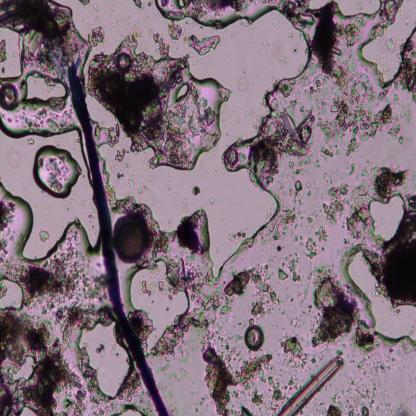Air bubble: (346, 249, 416, 345), (128, 261, 190, 356), (358, 0, 416, 86), (74, 319, 132, 402), (154, 0, 280, 31), (0, 179, 38, 258), (33, 142, 82, 202), (0, 103, 75, 136), (368, 193, 406, 243), (22, 70, 68, 107), (0, 27, 25, 83), (308, 0, 381, 17), (0, 276, 25, 314), (8, 357, 36, 382), (175, 83, 190, 101), (177, 0, 186, 8)
Background material: (0, 0, 104, 80), (324, 83, 407, 154), (96, 49, 171, 124), (250, 106, 315, 180), (379, 198, 416, 309), (277, 356, 343, 415), (312, 275, 361, 348), (193, 260, 249, 318), (140, 110, 191, 167), (309, 3, 344, 83), (153, 307, 210, 356), (202, 343, 240, 415), (346, 166, 370, 238), (249, 263, 277, 322), (190, 82, 218, 139), (236, 352, 274, 390), (373, 166, 408, 200), (394, 38, 416, 92), (322, 182, 352, 220), (179, 210, 203, 256), (268, 208, 300, 241), (281, 0, 315, 30), (280, 336, 309, 368), (354, 318, 378, 356), (187, 34, 220, 58), (340, 16, 365, 47), (95, 119, 121, 147), (277, 255, 303, 283), (306, 226, 328, 257), (137, 276, 171, 294), (268, 374, 284, 407), (151, 32, 170, 59), (0, 198, 15, 232), (344, 60, 362, 85), (226, 148, 245, 169), (169, 21, 186, 44), (383, 0, 401, 21), (226, 229, 249, 243), (290, 180, 303, 204), (278, 81, 295, 99), (250, 389, 266, 407), (383, 35, 397, 54), (113, 147, 127, 165), (325, 404, 342, 416), (95, 342, 106, 359), (133, 0, 145, 12), (239, 404, 253, 414), (39, 230, 50, 242), (116, 168, 124, 184), (127, 173, 134, 191), (360, 404, 370, 415), (192, 184, 201, 196), (271, 19, 279, 27), (208, 196, 215, 204), (80, 2, 94, 6)
Cotton: (67, 65, 169, 415)
Diatom: (115, 215, 147, 263), (244, 326, 264, 351), (0, 82, 18, 108)
